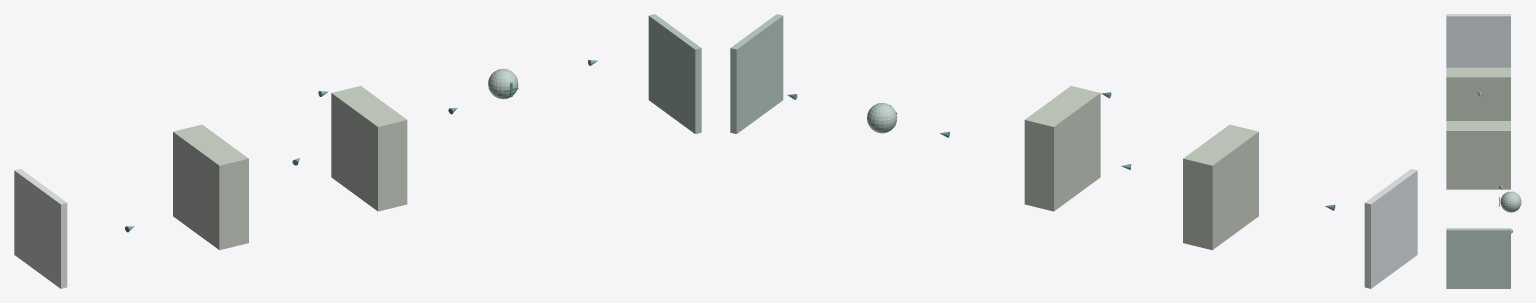
The model's file is sage-earth.glb.
3 renders of one model, left to right at view 1: azimuth 30°, elevation 25°; view 2: azimuth 150°, elevation 25°; view 3: azimuth 270°, elevation 25°, orthographic. The views are drawn at different scales.
Visible parts, largest first — view 1: 3×3 Conv · BN · C × H × W, 3×3 Conv · BN + ReLU · C × H × W, Input · C × H × W, ReLU · C × H × W, Add · C × H × W; view 2: 3×3 Conv · BN · C × H × W, 3×3 Conv · BN + ReLU · C × H × W, Input · C × H × W, ReLU · C × H × W, Add · C × H × W; view 3: 3×3 Conv · BN · C × H × W, ReLU · C × H × W, Input · C × H × W, 3×3 Conv · BN + ReLU · C × H × W, Add · C × H × W.
Boxes of the visible parts, x1=… form: 3×3 Conv · BN · C × H × W: x1=331, y1=86, x2=407, y2=211; 3×3 Conv · BN + ReLU · C × H × W: x1=173, y1=124, x2=248, y2=250; Input · C × H × W: x1=14, y1=169, x2=67, y2=288; ReLU · C × H × W: x1=648, y1=14, x2=701, y2=133; Add · C × H × W: x1=488, y1=69, x2=518, y2=99; 3×3 Conv · BN · C × H × W: x1=1024, y1=86, x2=1100, y2=211; 3×3 Conv · BN + ReLU · C × H × W: x1=1183, y1=124, x2=1258, y2=250; Input · C × H × W: x1=1364, y1=169, x2=1417, y2=288; ReLU · C × H × W: x1=730, y1=14, x2=783, y2=133; Add · C × H × W: x1=867, y1=103, x2=897, y2=133; 3×3 Conv · BN · C × H × W: x1=1446, y1=121, x2=1510, y2=189; ReLU · C × H × W: x1=1446, y1=228, x2=1510, y2=288; Input · C × H × W: x1=1446, y1=14, x2=1510, y2=67; 3×3 Conv · BN + ReLU · C × H × W: x1=1446, y1=67, x2=1510, y2=120; Add · C × H × W: x1=1500, y1=191, x2=1521, y2=212.
Size of the model in its own units: 21.82 by 3.61 by 3.2.
